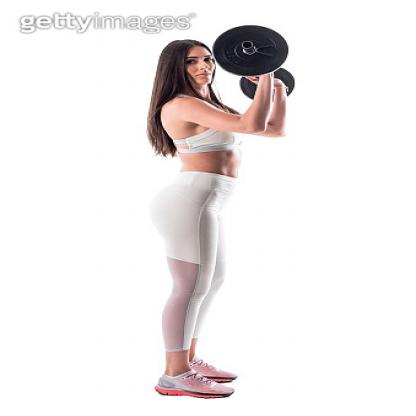Barbell: (204, 14, 293, 81)
